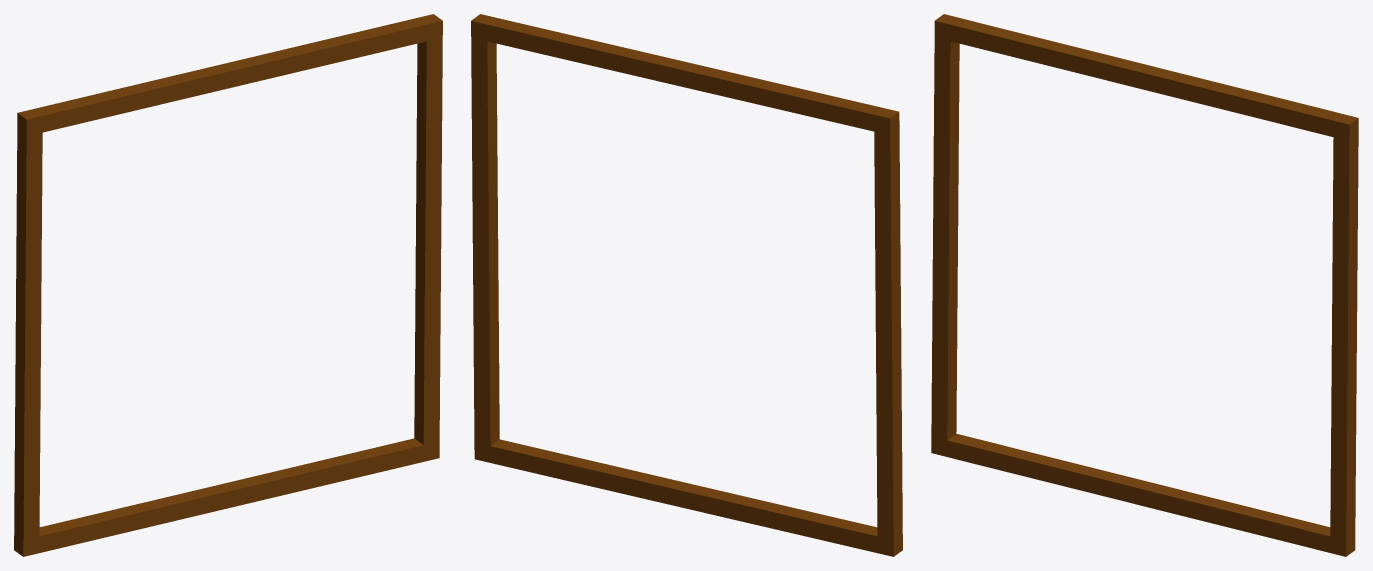
Rendered from simple_square.obj.
3 renders of one model, left to right at view 1: azimuth 30°, elevation 25°; view 2: azimuth 150°, elevation 25°; view 3: azimuth 330°, elevation 25°, orthographic.
Visible parts, largest first — view 1: POLYFACE.660; view 2: POLYFACE.660; view 3: POLYFACE.660.
Boxes of the visible parts, left/top/right/bottom form: POLYFACE.660: left=14, top=14, right=442, bottom=556; POLYFACE.660: left=471, top=14, right=902, bottom=556; POLYFACE.660: left=931, top=14, right=1358, bottom=556.
Size of the model in its own units: 1.31 by 1.31 by 0.0554.
